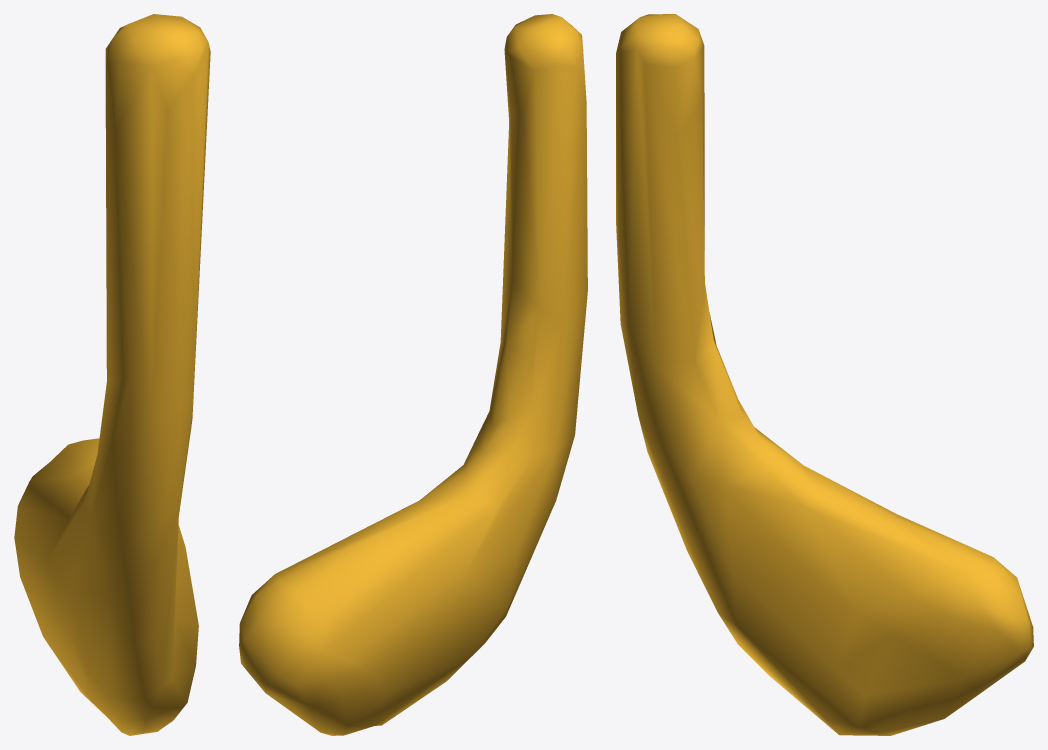
Rendered from nervoso-nasolacrimal-duct-r.glb.
3 renders of one model, left to right at view 1: azimuth 30°, elevation 25°; view 2: azimuth 150°, elevation 25°; view 3: azimuth 270°, elevation 25°, orthographic. The views are drawn at different scales.
Visible parts, largest first — view 1: Nasolacrimal duct.r; view 2: Nasolacrimal duct.r; view 3: Nasolacrimal duct.r.
Part boxes in pixels (<box>): Nasolacrimal duct.r: <box>14,14,210,735</box>; Nasolacrimal duct.r: <box>239,14,587,735</box>; Nasolacrimal duct.r: <box>616,14,1033,735</box>.
Bounding box in the file's own units: 0.00598 × 0.0205 × 0.0115.
